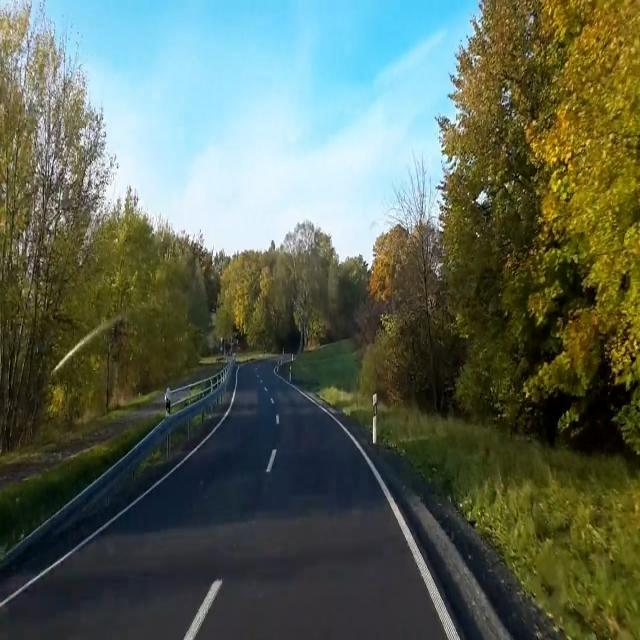lane: (0, 386, 235, 607), (321, 408, 460, 639), (183, 580, 222, 639), (266, 449, 275, 471)
road: (0, 362, 446, 639)
